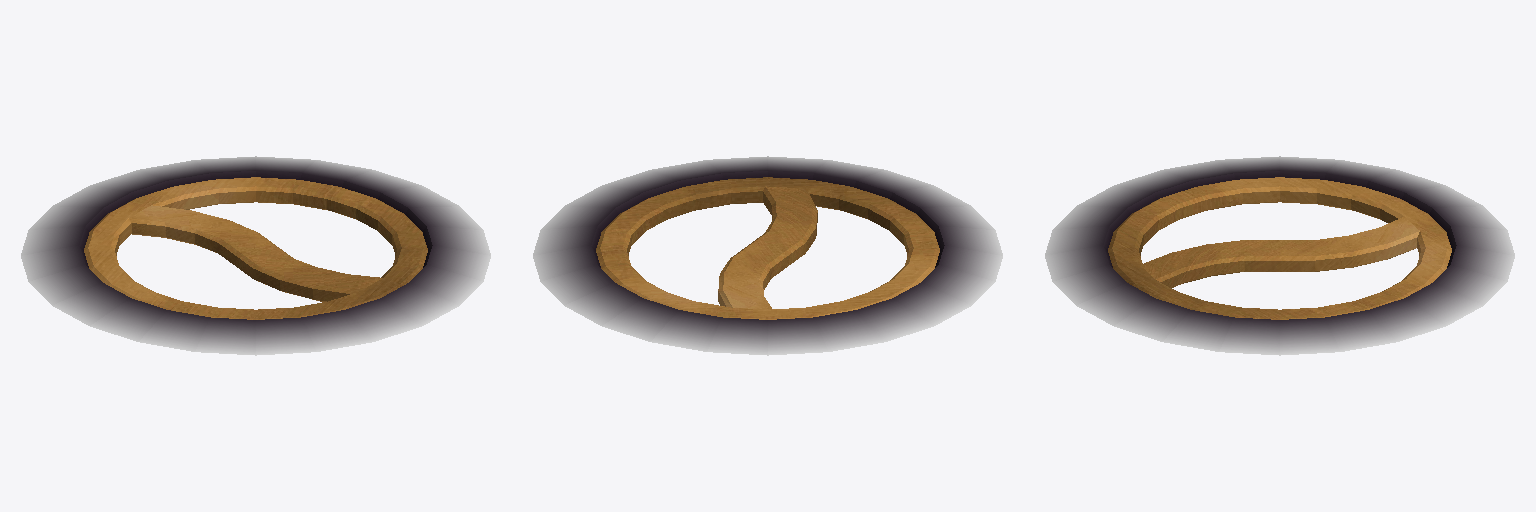
The picture shows the model from 3 angles: view 1: azimuth 30°, elevation 25°; view 2: azimuth 150°, elevation 25°; view 3: azimuth 270°, elevation 25°; orthographic projection.
Parts seen in each view (by area): view 1: ChakramProjectileMesh_Chakram_Projectile; view 2: ChakramProjectileMesh_Chakram_Projectile; view 3: ChakramProjectileMesh_Chakram_Projectile.
Boxes of the visible parts, box(x1,y1,x2,y2) form: ChakramProjectileMesh_Chakram_Projectile: box(21, 156, 490, 355); ChakramProjectileMesh_Chakram_Projectile: box(533, 156, 1002, 355); ChakramProjectileMesh_Chakram_Projectile: box(1045, 156, 1514, 355).
Size of the model in its own units: 2 by 0.1 by 2.
Materials: 1 (1 with a texture image).